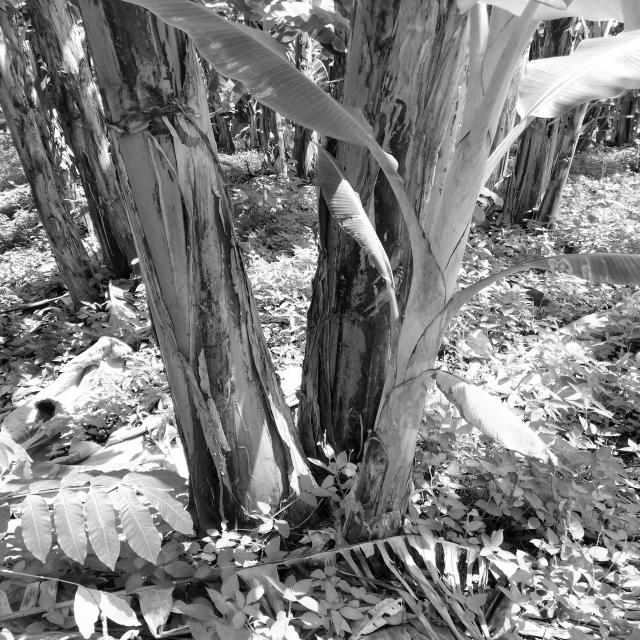Banana-plant: (82, 0, 308, 544), (290, 0, 461, 472), (338, 220, 480, 541), (31, 3, 168, 291), (0, 0, 112, 309)
